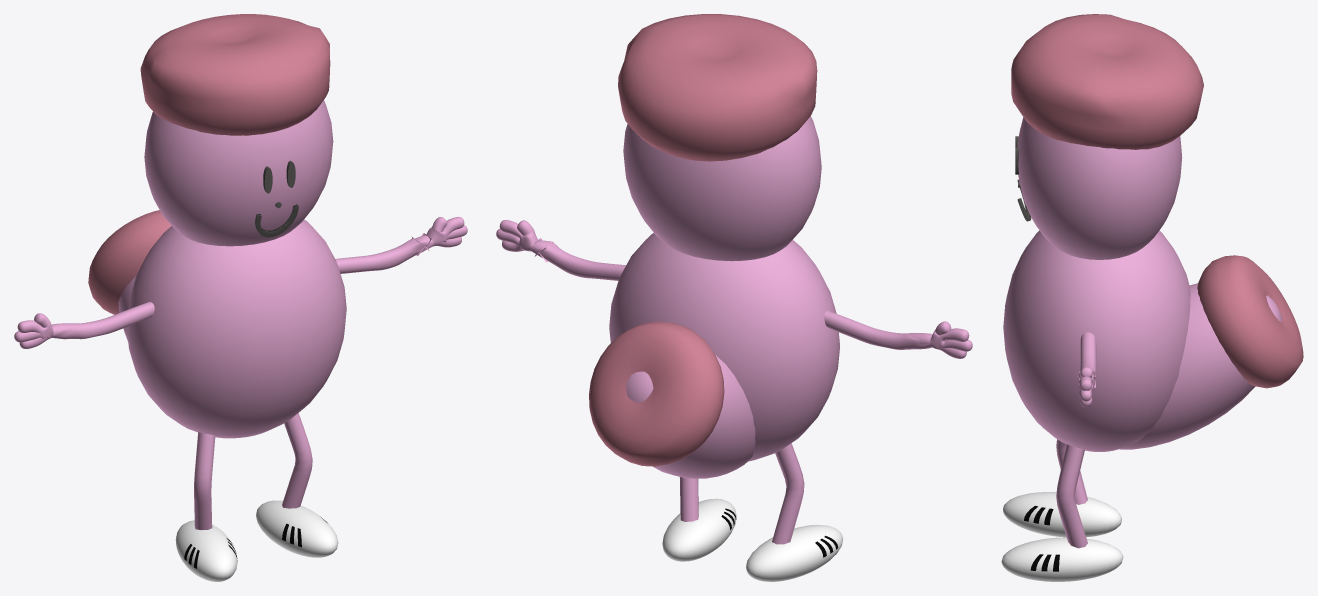
Rendered from harm_the_first_smaller.fbx.
3 renders of one model, left to right at view 1: azimuth 30°, elevation 25°; view 2: azimuth 150°, elevation 25°; view 3: azimuth 270°, elevation 25°, orthographic. The views are drawn at different scales.
Visible parts, largest first — view 1: Sphere, Sphere.004, Sphere.002, Sphere.005, Leg, Sphere.007, Sphere.001, Arms, Arms.001; view 2: Sphere, Sphere.004, Sphere.002, Sphere.005, Sphere.003, Sphere.001, Sphere.007, Arms, Arms.001, Leg; view 3: Sphere, Sphere.004, Sphere.002, Sphere.005, Sphere.003, Sphere.007, Sphere.001, Leg, Arms.001.
Boxes of the visible parts, x1=… form: Sphere: x1=127, y1=219, x2=346, y2=438; Sphere.004: x1=140, y1=14, x2=330, y2=135; Sphere.002: x1=144, y1=100, x2=333, y2=246; Sphere.005: x1=88, y1=210, x2=171, y2=314; Leg: x1=194, y1=413, x2=312, y2=530; Sphere.007: x1=256, y1=500, x2=338, y2=557; Sphere.001: x1=175, y1=520, x2=237, y2=581; Arms: x1=14, y1=302, x2=154, y2=348; Arms.001: x1=335, y1=216, x2=467, y2=273; Sphere: x1=609, y1=233, x2=839, y2=461; Sphere.004: x1=618, y1=14, x2=817, y2=161; Sphere.002: x1=623, y1=116, x2=821, y2=261; Sphere.005: x1=589, y1=321, x2=724, y2=466; Sphere.003: x1=626, y1=354, x2=755, y2=478; Sphere.001: x1=746, y1=524, x2=842, y2=581; Sphere.007: x1=662, y1=498, x2=736, y2=561; Arms: x1=824, y1=310, x2=972, y2=358; Arms.001: x1=496, y1=220, x2=625, y2=280; Leg: x1=679, y1=443, x2=804, y2=544; Sphere: x1=1003, y1=230, x2=1190, y2=451; Sphere.004: x1=1011, y1=14, x2=1203, y2=149; Sphere.002: x1=1017, y1=117, x2=1182, y2=259; Sphere.005: x1=1197, y1=255, x2=1303, y2=388; Sphere.003: x1=1119, y1=283, x2=1281, y2=449; Sphere.007: x1=1001, y1=537, x2=1123, y2=581; Sphere.001: x1=1003, y1=492, x2=1121, y2=537; Leg: x1=1056, y1=439, x2=1087, y2=548; Arms.001: x1=1078, y1=332, x2=1096, y2=406.
Size of the model in its own units: 390 by 420 by 222.
